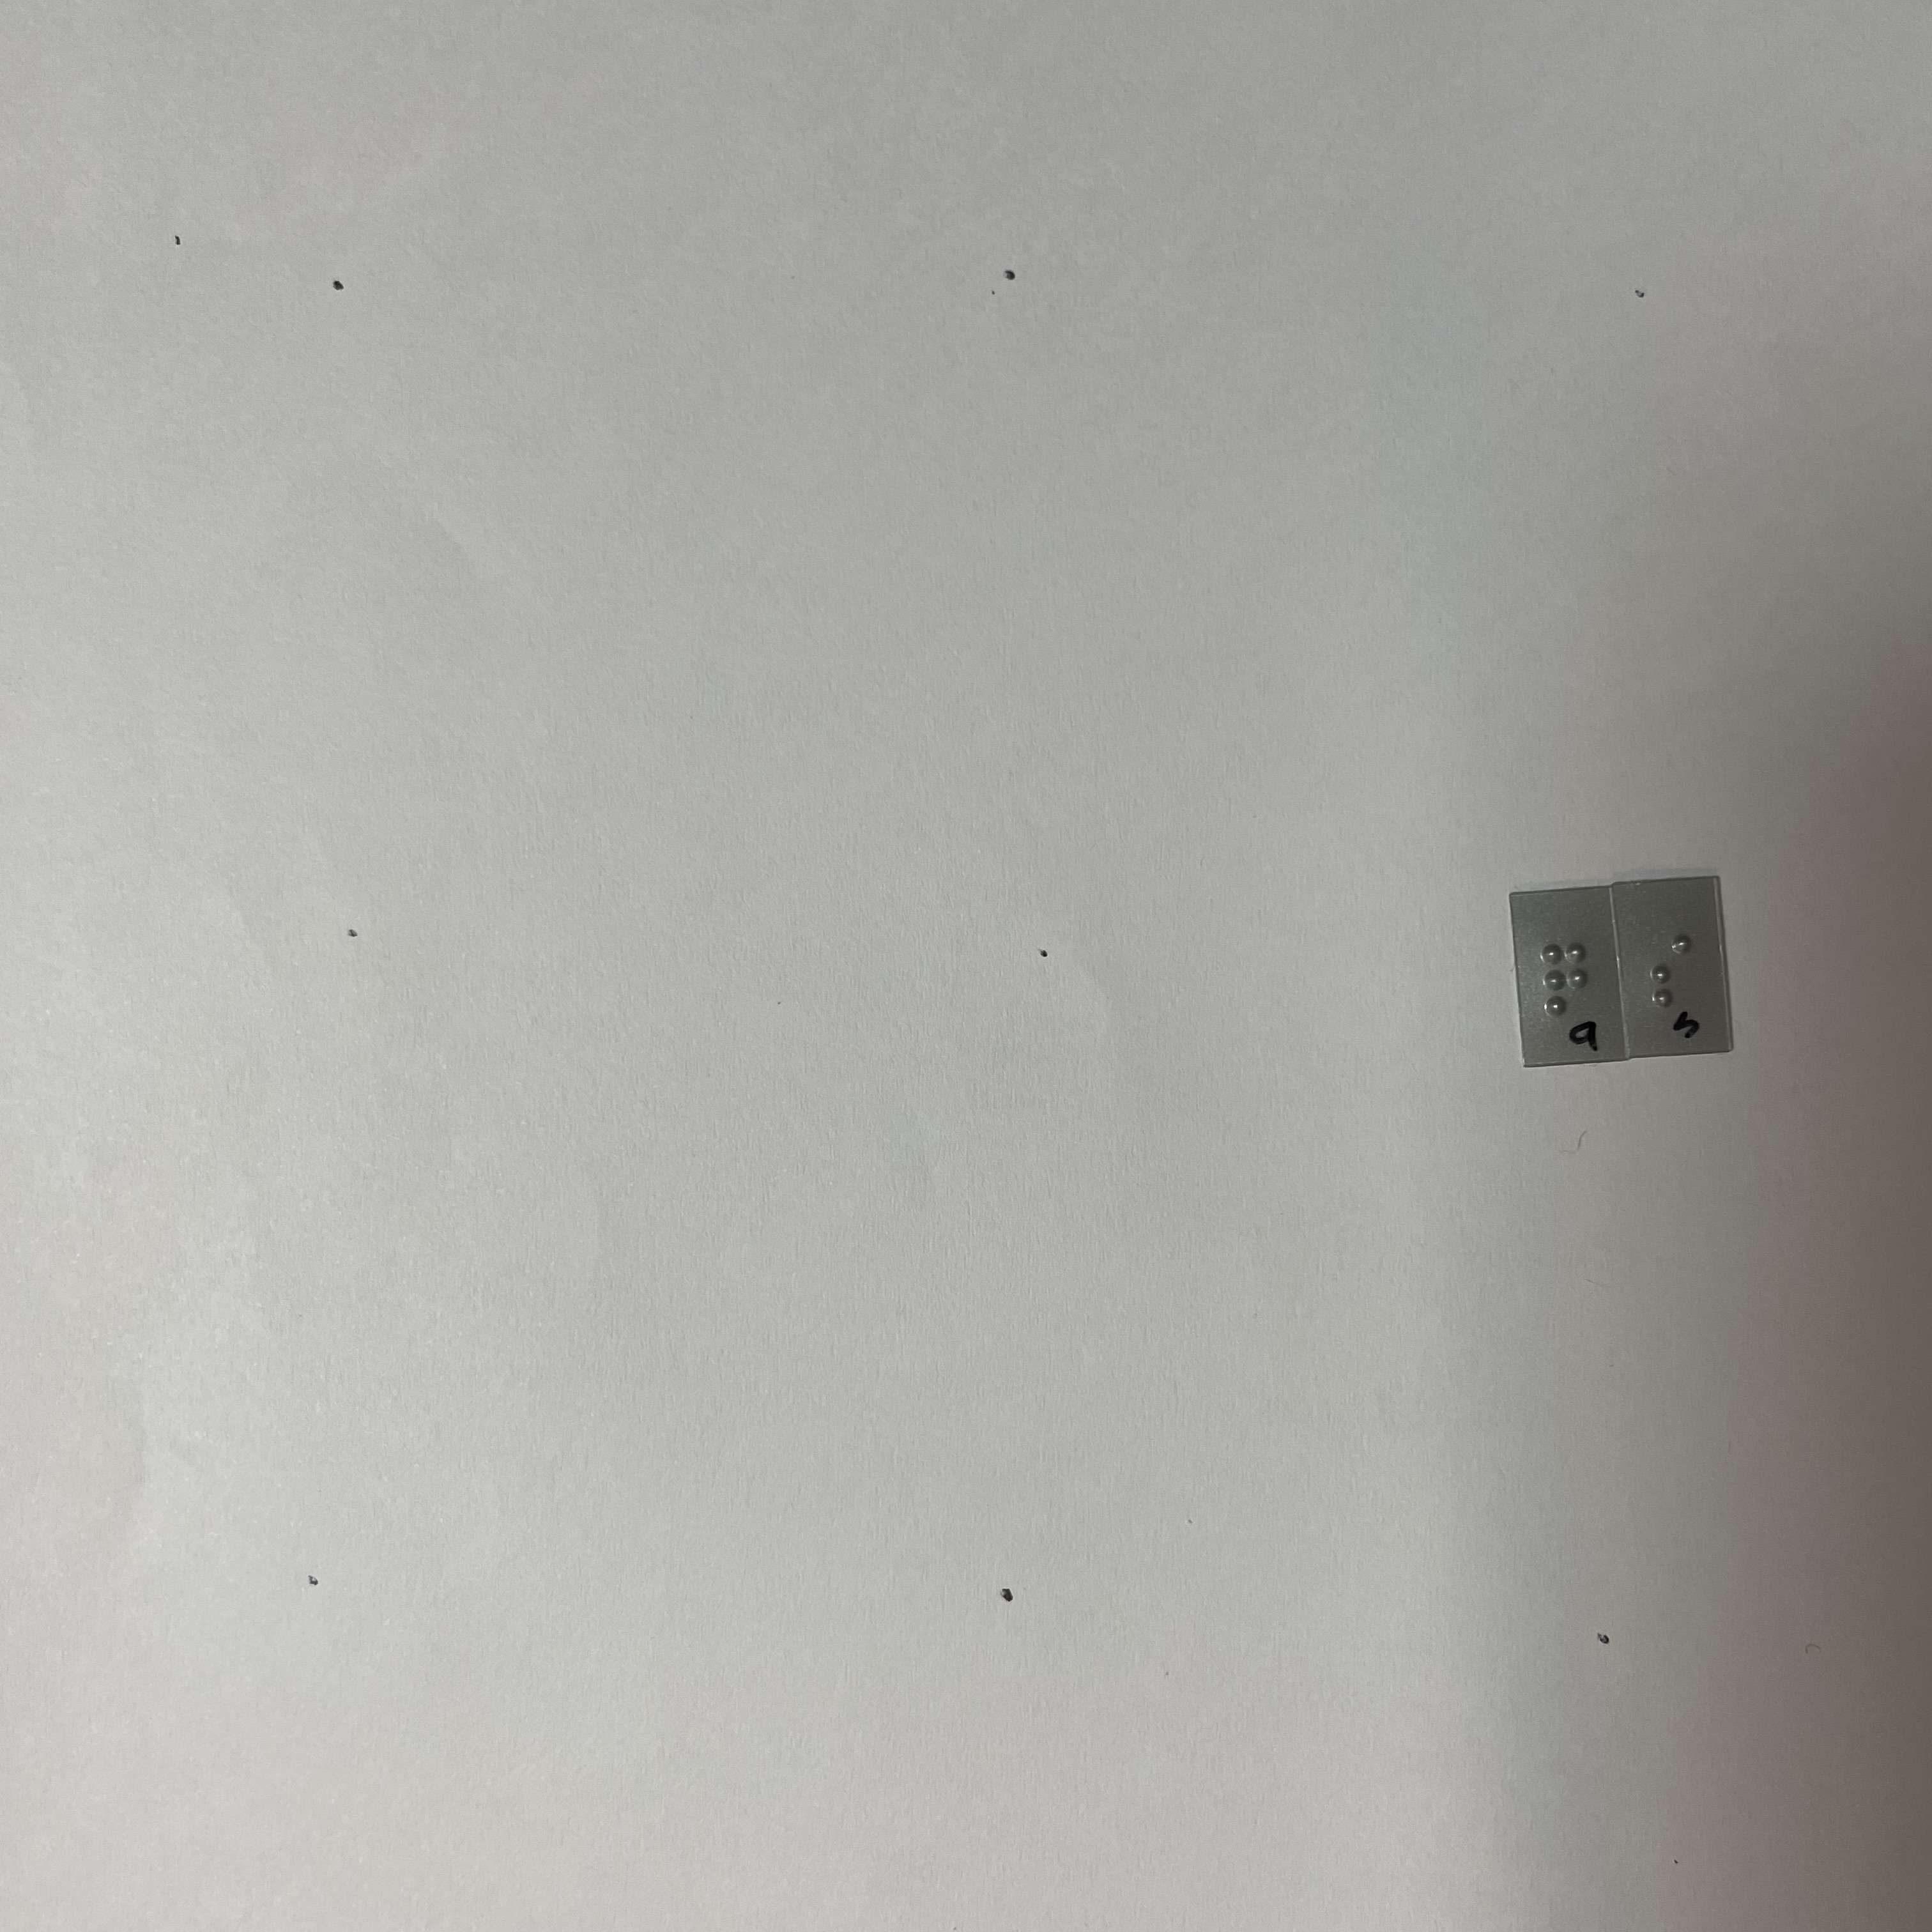q: (1540, 939, 1593, 1020)
s: (1644, 923, 1703, 1009)
